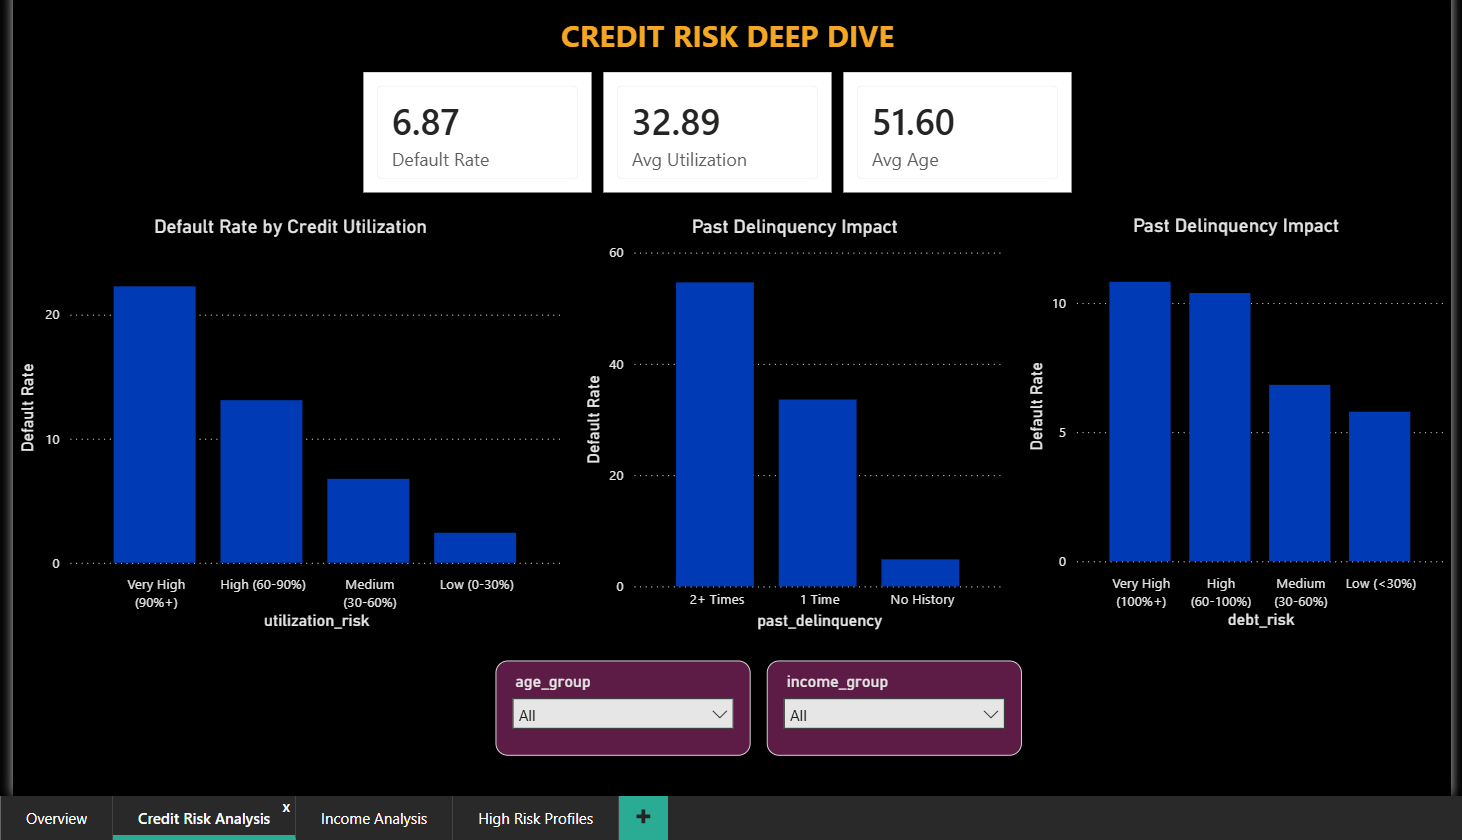

The page's visual inventory and layout, read from the dashboard file:
{"tool":"powerbi","page":{"name":"Credit Risk Analysis","canvas":[1280,720],"ordinal":1},"visuals":[{"type":"textbox","box":[483.4,18.4,315.3,56.4],"z":0},{"type":"cardVisual","fields":{"Data":["credit_risk_clean.Default Rate"]},"box":[307.2,69.7,213.5,117.8],"z":1000},{"type":"cardVisual","fields":{"Data":["credit_risk_clean.Avg Utilization"]},"box":[520.7,69.7,213.5,117.8],"z":2000},{"type":"cardVisual","fields":{"Data":["credit_risk_clean.Avg Age"]},"box":[734.2,69.7,213.5,117.8],"z":3000},{"type":"clusteredColumnChart","title":"Default Rate by Credit Utilization","fields":{"Category":["credit_risk_clean.utilization_risk"],"Y":["credit_risk_clean.Default Rate"]},"box":[0,202.5,494.5,374.2],"z":4000},{"type":"clusteredColumnChart","title":"Past Delinquency Impact","fields":{"Category":["credit_risk_clean.past_delinquency"],"Y":["credit_risk_clean.Default Rate"]},"box":[504.3,202.5,384.1,374.2],"z":5000},{"type":"clusteredColumnChart","title":"Past Delinquency Impact","fields":{"Category":["credit_risk_clean.debt_risk"],"Y":["credit_risk_clean.Default Rate"]},"box":[898,202,382,374],"z":6000},{"type":"slicer","fields":{"Values":["credit_risk_clean.age_group"]},"box":[429.5,598.8,227,84.7],"z":7000},{"type":"slicer","fields":{"Values":["credit_risk_clean.income_group"]},"box":[671.2,598.8,227,84.7],"z":8000}]}

Visuals, with their boxes on the page's 1280x720 design canvas (x1, y1, x2, y2). These are canvas units, not pixel positions in the 1462x840 screenshot, which may show the page scaled, cropped or inside an application window:
textbox: select_region(483, 18, 799, 75)
cardVisual - credit_risk_clean.Default Rate: select_region(307, 70, 521, 188)
cardVisual - credit_risk_clean.Avg Utilization: select_region(521, 70, 734, 188)
cardVisual - credit_risk_clean.Avg Age: select_region(734, 70, 948, 188)
"Default Rate by Credit Utilization" clusteredColumnChart: select_region(0, 202, 494, 577)
"Past Delinquency Impact" clusteredColumnChart: select_region(504, 202, 888, 577)
"Past Delinquency Impact" clusteredColumnChart: select_region(898, 202, 1280, 576)
slicer - credit_risk_clean.age_group: select_region(430, 599, 656, 684)
slicer - credit_risk_clean.income_group: select_region(671, 599, 898, 684)
